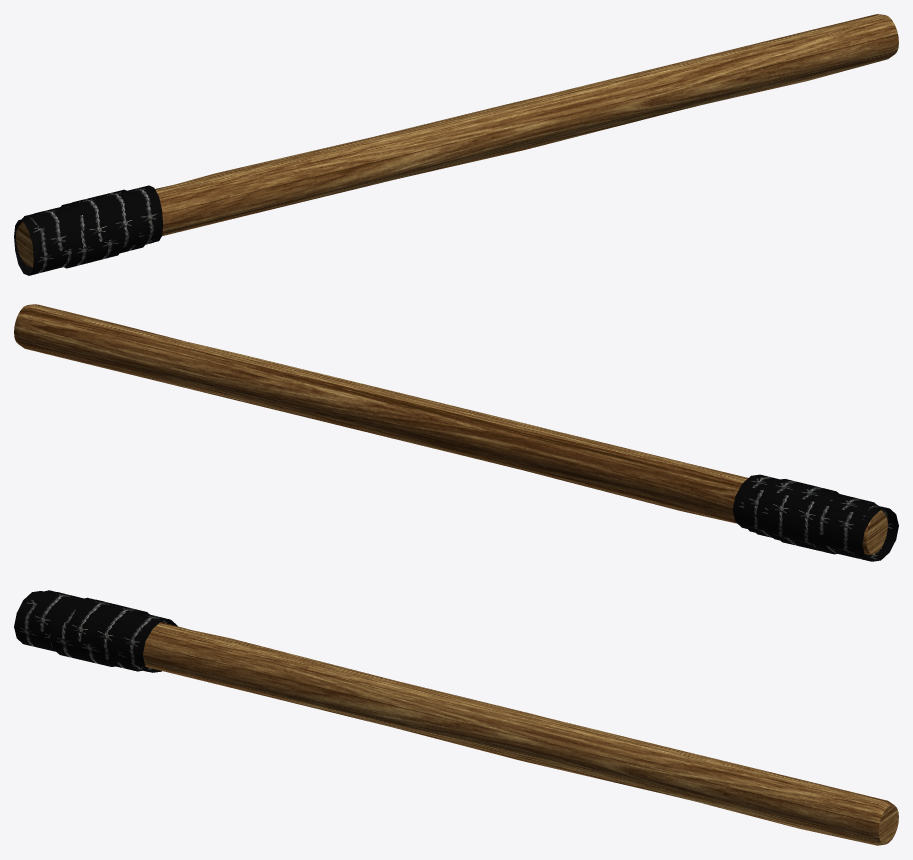
File: paloespino.fbx
3 renders of one model, top to bottom at view 1: azimuth 30°, elevation 25°; view 2: azimuth 150°, elevation 25°; view 3: azimuth 330°, elevation 25°, orthographic.
Visible parts, largest first — view 1: palo_ESPINO, ESPINO04, ESPINO05, ESPINO06; view 2: palo_ESPINO, ESPINO04, ESPINO05, ESPINO06; view 3: palo_ESPINO, ESPINO04, ESPINO05, ESPINO06.
Boxes of the visible parts, x1,y1,x2,y2 form: palo_ESPINO: (16, 14, 898, 267); ESPINO04: (61, 189, 139, 268); ESPINO05: (14, 206, 85, 275); ESPINO06: (120, 185, 163, 253); palo_ESPINO: (14, 304, 887, 554); ESPINO04: (756, 479, 839, 554); ESPINO05: (818, 494, 898, 561); ESPINO06: (732, 474, 779, 537); palo_ESPINO: (143, 622, 898, 845); ESPINO04: (50, 597, 149, 666); ESPINO05: (14, 590, 83, 651); ESPINO06: (104, 612, 177, 672).
Bounding box in the file's own units: 52.5 × 3.3 × 3.27.
